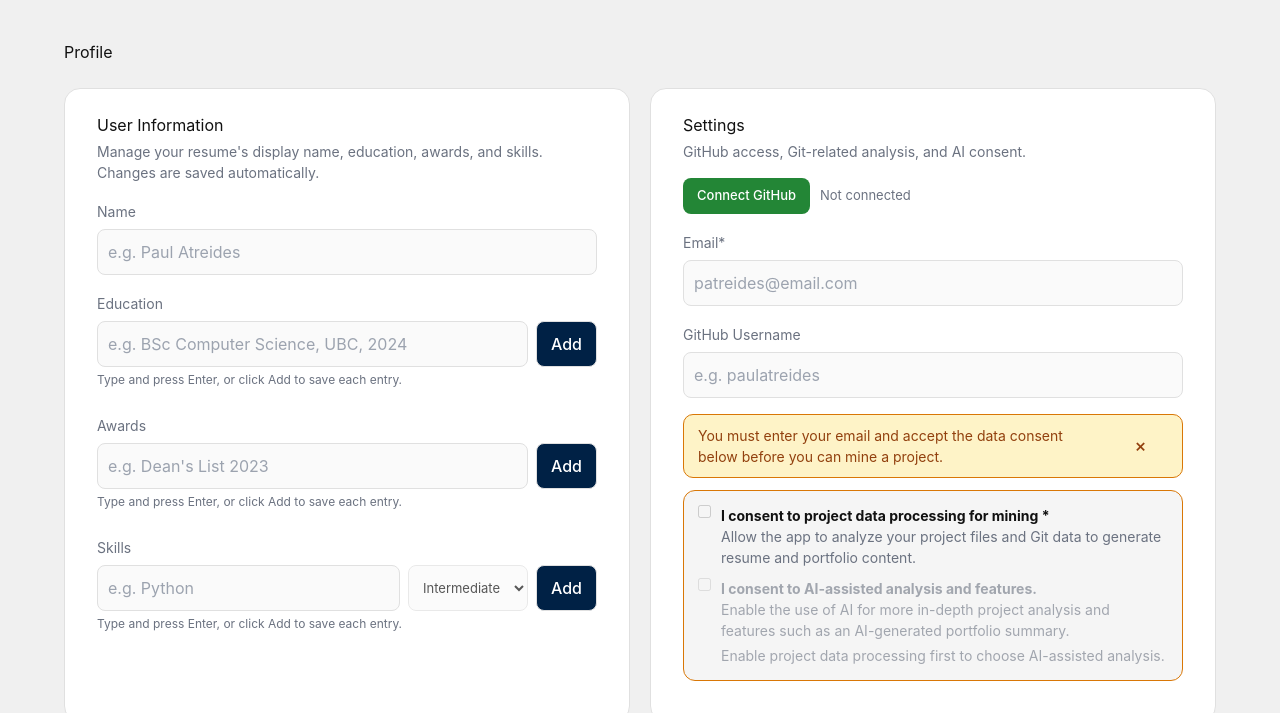
Test: ProfilePage — consent banner › dismisses the banner when the consent checkbox is checked
The width and height of the screenshot is (1280, 713).
Expected: the text "You must enter your email and accept the data consent" is shown, [698,426,1063,464]
Note: The consent checkbox is the first checkbox on the page
Step 1. Click the 1st checkbox → (704, 511), box [698,504,711,518]
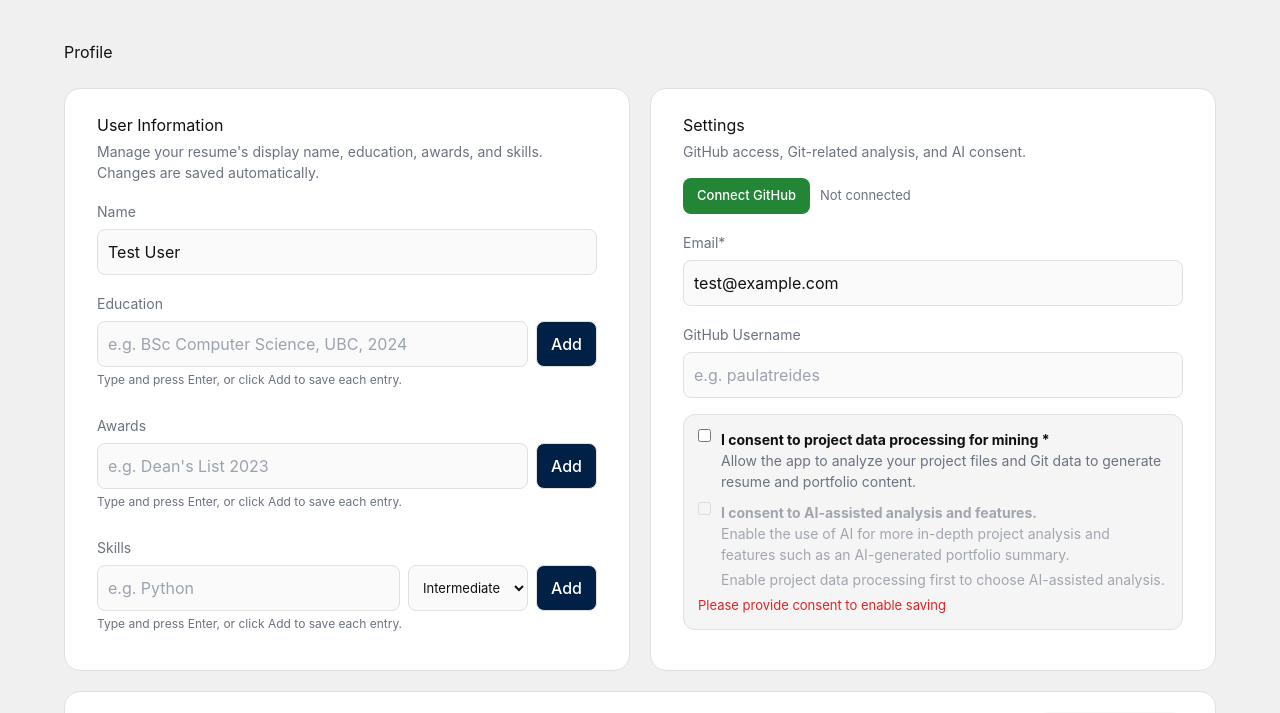
Expected: the text "You must enter your email and accept the data consent" is gone
